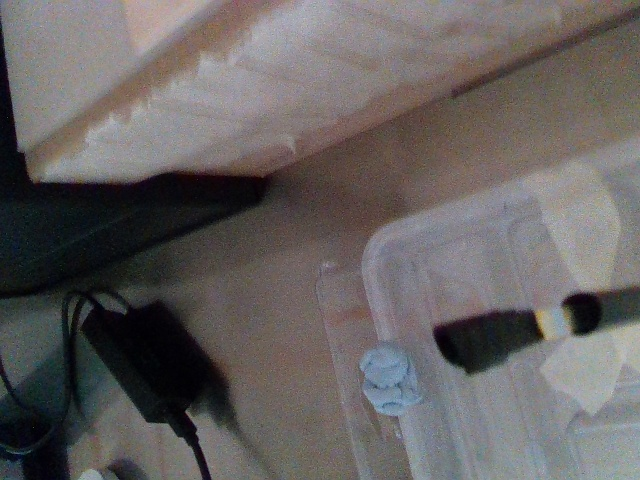test_strip: (433, 304, 573, 375)
